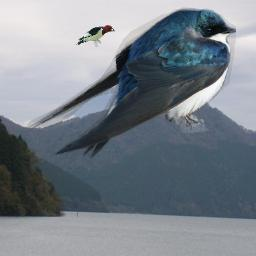Swallow: (27, 7, 236, 158)
Woodpecker: (74, 23, 117, 48)
